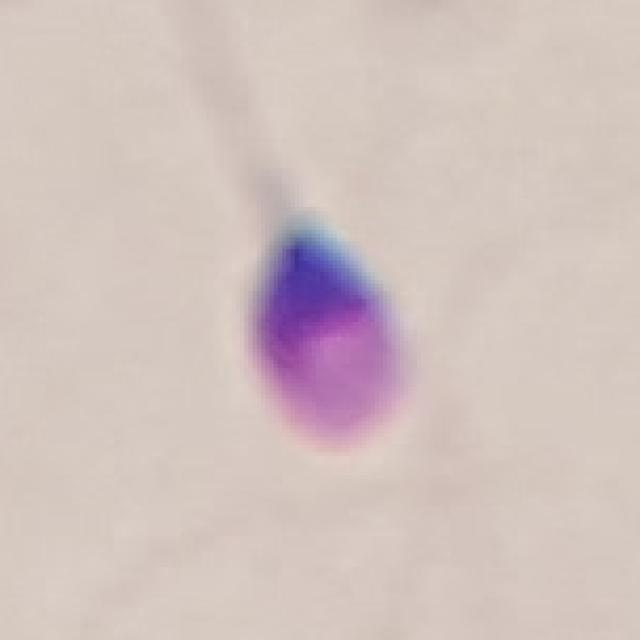normal sperm: (195, 71, 446, 474)
